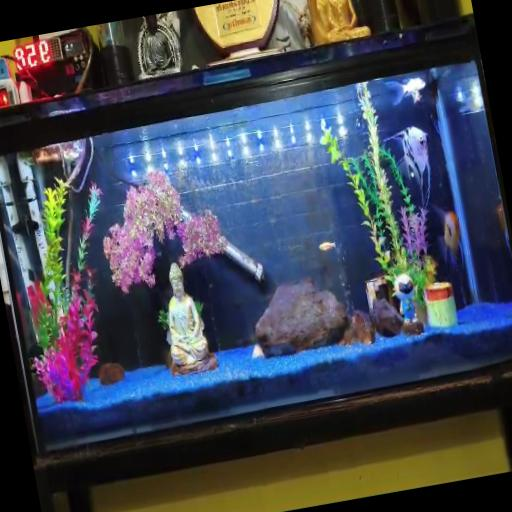Fish: (384, 127, 430, 208), (433, 206, 463, 267), (384, 78, 424, 105), (495, 203, 509, 249), (318, 242, 334, 252)
